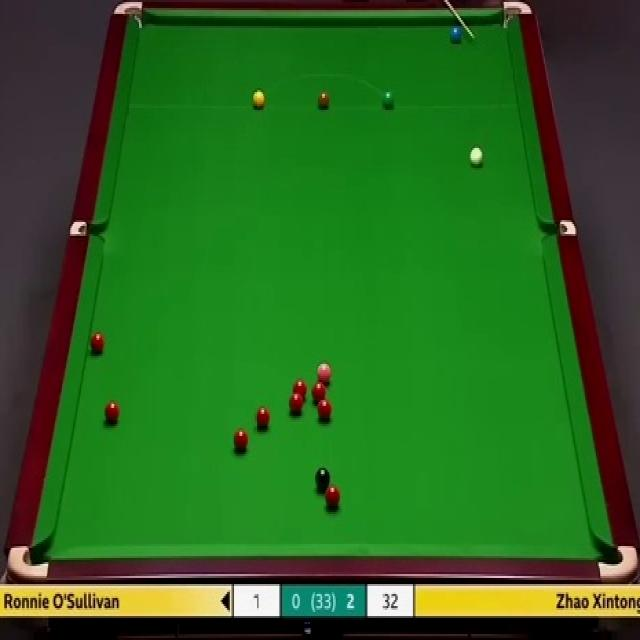black-ball: (314, 466, 331, 495)
blue-ball: (448, 22, 464, 47)
brown-ball: (317, 91, 331, 111)
green-ball: (382, 90, 396, 112)
pink-ball: (314, 361, 332, 385)
red-ball: (102, 397, 120, 427), (232, 429, 250, 456), (324, 485, 341, 510), (255, 405, 271, 429), (288, 393, 304, 416), (89, 331, 104, 355), (291, 379, 308, 400), (317, 398, 332, 420), (311, 382, 327, 402)
white-ball: (468, 145, 485, 168)
yellow-ball: (252, 90, 266, 110)
